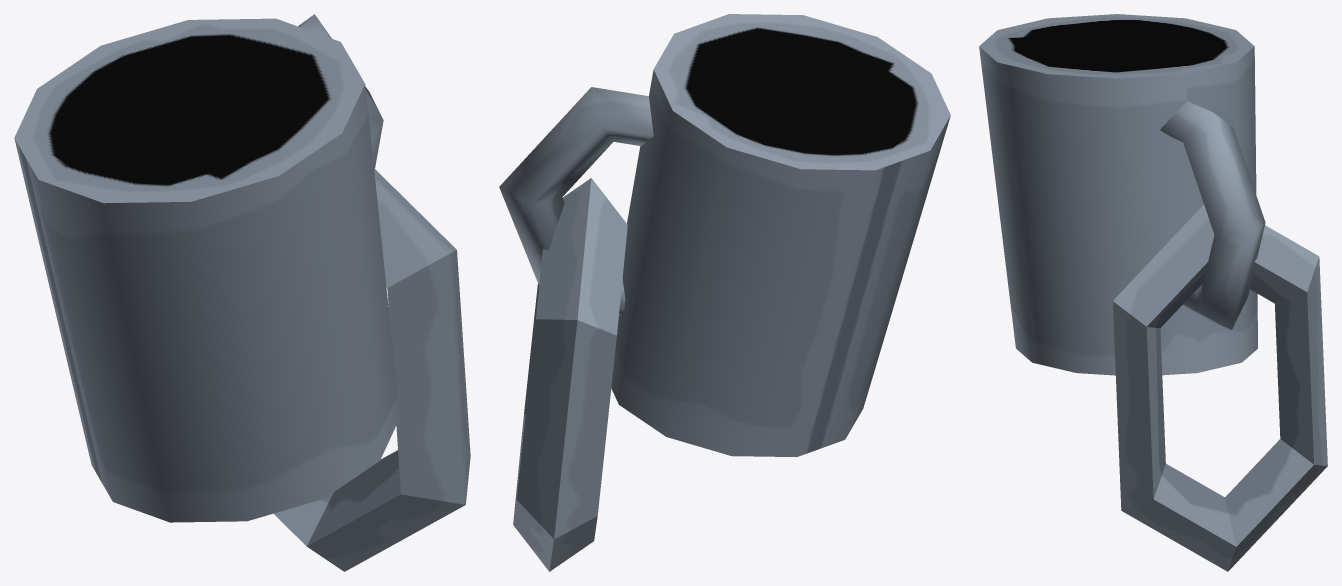
Rendered from LegCuffLeft.fbx.
3 views of the same model, side by side, from view 1: azimuth 30°, elevation 25°; view 2: azimuth 150°, elevation 25°; view 3: azimuth 270°, elevation 25° (orthographic). The views are drawn at different scales.
Parts seen in each view (by area): view 1: LegCuffLeft; view 2: LegCuffLeft; view 3: LegCuffLeft.
Part boxes in pixels (box(x1,y1,x2,y2)): LegCuffLeft: box(14, 14, 470, 571); LegCuffLeft: box(499, 14, 950, 571); LegCuffLeft: box(979, 14, 1327, 571).
Bounding box in the file's own units: 22.73 × 28.63 × 19.47.
